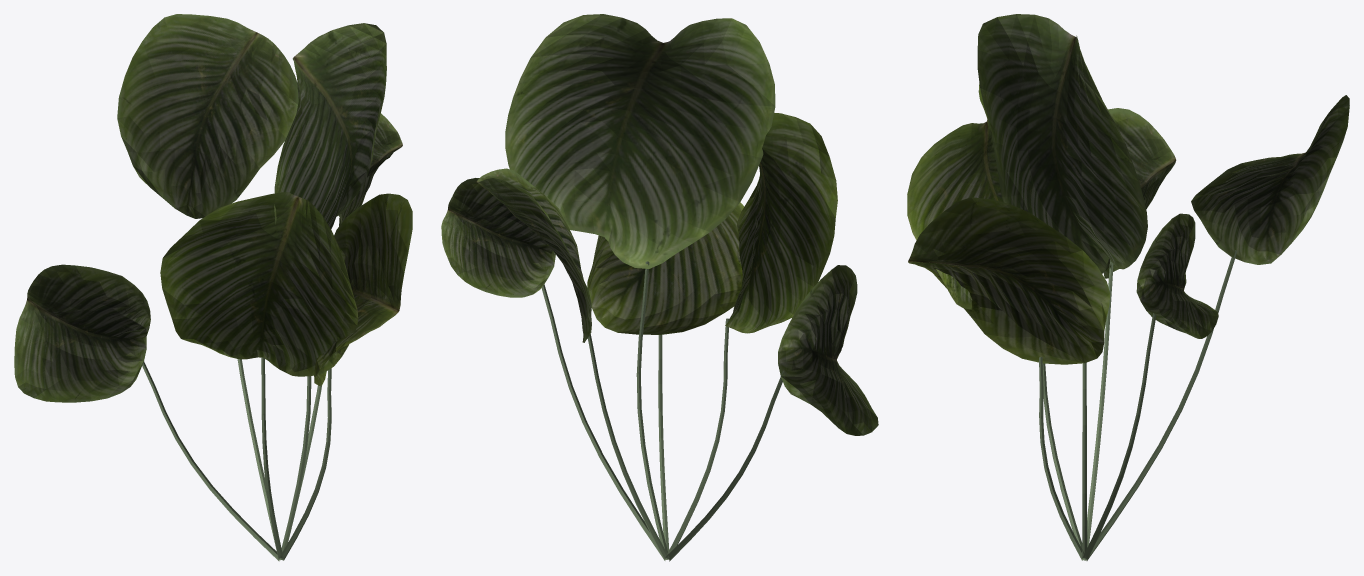
Rendered from leaf-1.glb.
3 views of the same model, side by side, from view 1: azimuth 30°, elevation 25°; view 2: azimuth 150°, elevation 25°; view 3: azimuth 270°, elevation 25° (orthographic). The views are drawn at different scales.
Bounding box in the file's own units: 0.6612 × 0.8124 × 0.5972.
Materials: 2 (1 with a texture image).
